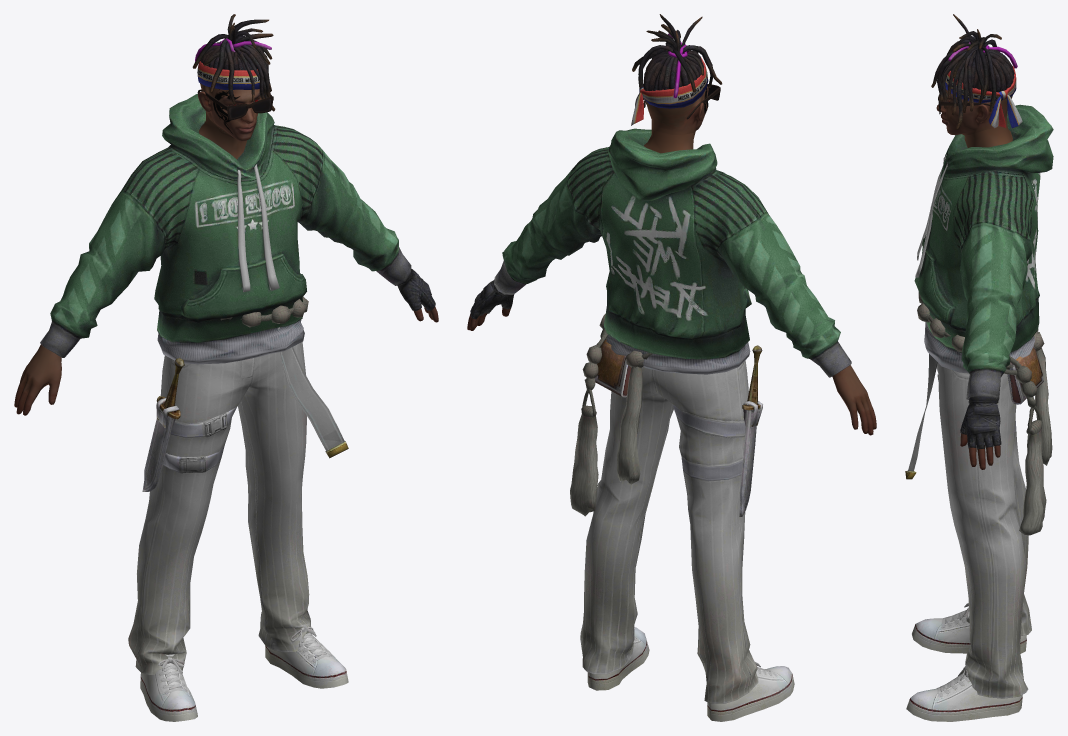
The model's file is rapper.fbx.
3 views of the same model, side by side, from view 1: azimuth 30°, elevation 25°; view 2: azimuth 150°, elevation 25°; view 3: azimuth 270°, elevation 25° (orthographic).
Visible parts, largest first — view 1: Object_7, Object_6, Object_5, Object_4, Object_3, Object_2; view 2: Object_7, Object_6, Object_4, Object_5, Object_3, Object_2; view 3: Object_7, Object_6, Object_5, Object_3, Object_4, Object_2.
Boxes of the visible parts, box(x1,y1,x2,y2) form: Object_7: box(40, 94, 435, 364); Object_6: box(128, 297, 348, 674); Object_5: box(140, 627, 348, 721); Object_4: box(14, 66, 438, 415); Object_3: box(192, 14, 275, 111); Object_2: box(195, 38, 271, 89); Object_7: box(470, 128, 851, 377); Object_6: box(570, 314, 762, 703); Object_4: box(467, 85, 876, 435); Object_5: box(587, 627, 794, 721); Object_3: box(632, 14, 722, 99); Object_2: box(631, 33, 708, 125); Object_7: box(914, 104, 1053, 449); Object_6: box(905, 291, 1052, 698); Object_5: box(906, 603, 1026, 721); Object_3: box(931, 14, 1014, 129); Object_4: box(936, 89, 1012, 469); Object_2: box(945, 42, 1022, 128).
Bounding box in the file's own units: 380 × 590 × 120.
Materials: 8 (8 with a texture image).
